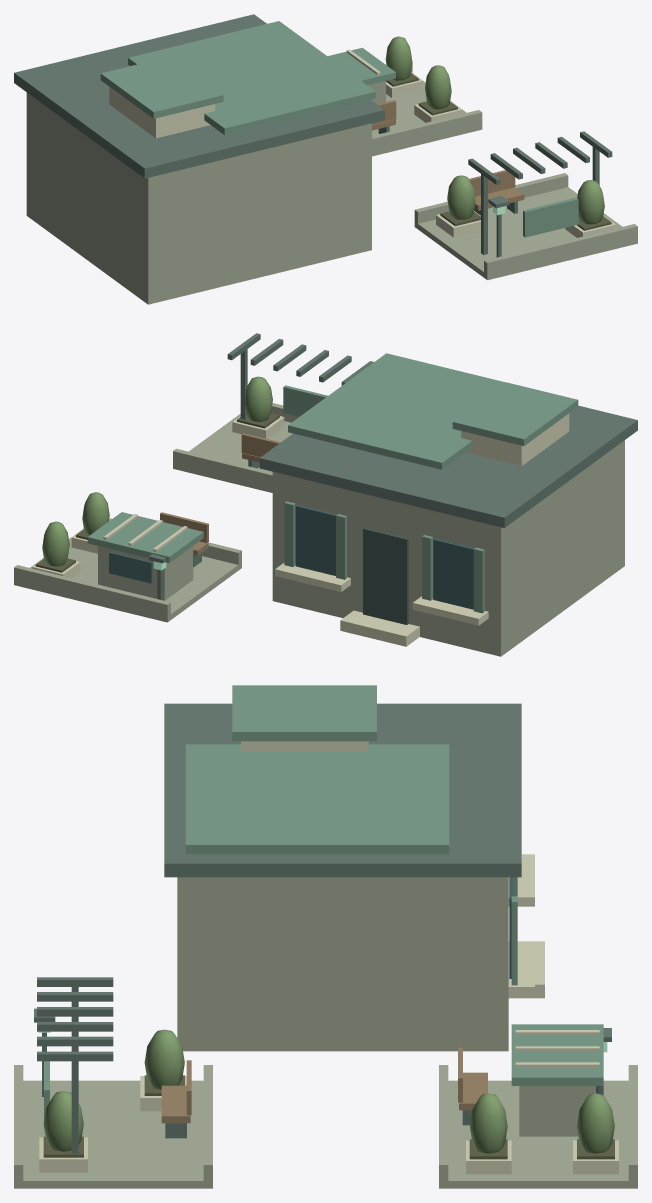
The model's file is overpass.glb.
3 renders of one model, top to bottom at view 1: azimuth 30°, elevation 25°; view 2: azimuth 150°, elevation 25°; view 3: azimuth 270°, elevation 25°, orthographic. The views are drawn at different scales.
Parts seen in each view (by area): view 1: ARENA wall (×2), ARENA roof (×2), ARENA canopy (×2), ARENA stone (×6), ARENA paving (×2), ARENA leaves (×4), ARENA wood (×3), ARENA metal; view 2: ARENA wall (×3), ARENA roof (×2), ARENA canopy (×2), ARENA window (×4), ARENA paving (×2), ARENA stone (×4), ARENA wood (×7), ARENA trim (×3), ARENA leaves (×3), ARENA metal; view 3: ARENA wall (×3), ARENA roof (×2), ARENA canopy (×2), ARENA paving (×2), ARENA stone (×7), ARENA wood (×9), ARENA leaves (×4), ARENA trim (×3).
Boxes of the visible parts, left/top/right/bottom form: ARENA wall (×2): left=26, top=87, right=371, bottom=304; ARENA roof (×2): left=14, top=14, right=384, bottom=178; ARENA canopy (×2): left=128, top=21, right=395, bottom=134; ARENA stone (×6): left=372, top=72, right=637, bottom=275; ARENA paving (×2): left=372, top=73, right=637, bottom=280; ARENA leaves (×4): left=385, top=36, right=604, bottom=224; ARENA wood (×3): left=469, top=170, right=524, bottom=254; ARENA metal: left=523, top=197, right=578, bottom=237; ARENA wall (×3): left=98, top=413, right=624, bottom=656; ARENA roof (×2): left=259, top=382, right=637, bottom=527; ARENA canopy (×2): left=87, top=353, right=505, bottom=562; ARENA window (×4): left=109, top=505, right=474, bottom=624; ARENA paving (×2): left=14, top=414, right=292, bottom=622; ARENA stone (×4): left=14, top=416, right=284, bottom=617; ARENA wood (×7): left=160, top=347, right=484, bottom=613; ARENA trim (×3): left=275, top=563, right=488, bottom=646; ARENA leaves (×3): left=42, top=376, right=272, bottom=566; ARENA metal: left=283, top=385, right=327, bottom=416; ARENA wall (×3): left=177, top=741, right=595, bottom=1136; ARENA roof (×2): left=164, top=685, right=521, bottom=877; ARENA canopy (×2): left=185, top=744, right=603, bottom=1085; ARENA paving (×2): left=14, top=1080, right=637, bottom=1188; ARENA stone (×7): left=14, top=1065, right=637, bottom=1184; ARENA wood (×9): left=37, top=977, right=487, bottom=1153; ARENA leaves (×4): left=43, top=1029, right=614, bottom=1153; ARENA trim (×3): left=508, top=854, right=544, bottom=998.
Size of the model in its own units: 8.12 by 3.04 by 7.34.
